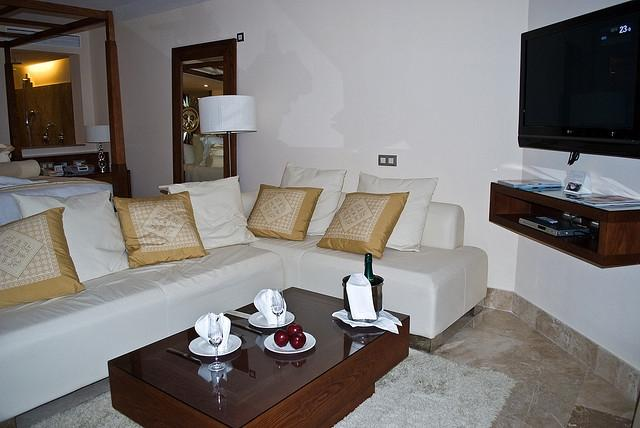apple: (289, 332, 306, 350), (274, 330, 290, 348), (286, 322, 303, 336)
